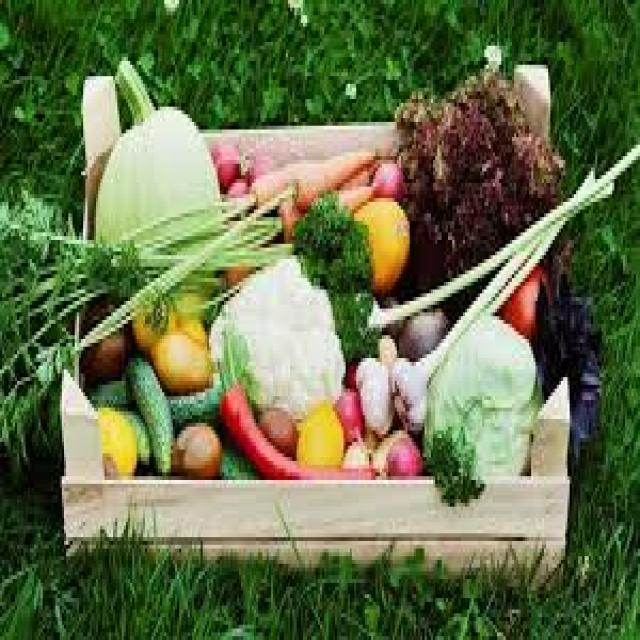biodegradable: (365, 134, 638, 332), (390, 160, 593, 415), (395, 65, 559, 270), (90, 53, 220, 240), (205, 248, 343, 412), (213, 354, 382, 476), (420, 305, 540, 476), (126, 190, 279, 305), (534, 259, 600, 453), (294, 183, 367, 358), (0, 301, 58, 461), (0, 194, 55, 350), (250, 141, 380, 206), (58, 221, 147, 305), (85, 373, 222, 423), (124, 355, 175, 473), (352, 195, 410, 290), (277, 179, 369, 236), (425, 423, 482, 503), (149, 324, 209, 392), (491, 263, 542, 335), (295, 396, 346, 461), (356, 358, 395, 434), (369, 423, 420, 480), (169, 419, 220, 476), (96, 400, 134, 476), (388, 355, 425, 431), (292, 171, 369, 206), (395, 305, 446, 354), (166, 286, 205, 347), (130, 294, 169, 351), (211, 137, 254, 187), (122, 404, 154, 469), (258, 404, 295, 453), (60, 320, 92, 370), (333, 385, 363, 438), (218, 442, 263, 476), (369, 156, 403, 198), (369, 431, 395, 473), (344, 431, 371, 469), (226, 172, 248, 195), (344, 362, 357, 392)
